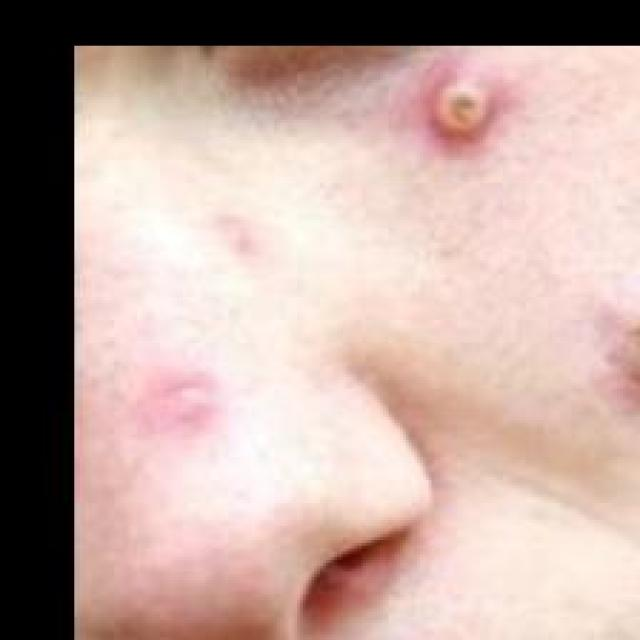monkeypox: (89, 35, 640, 628)
